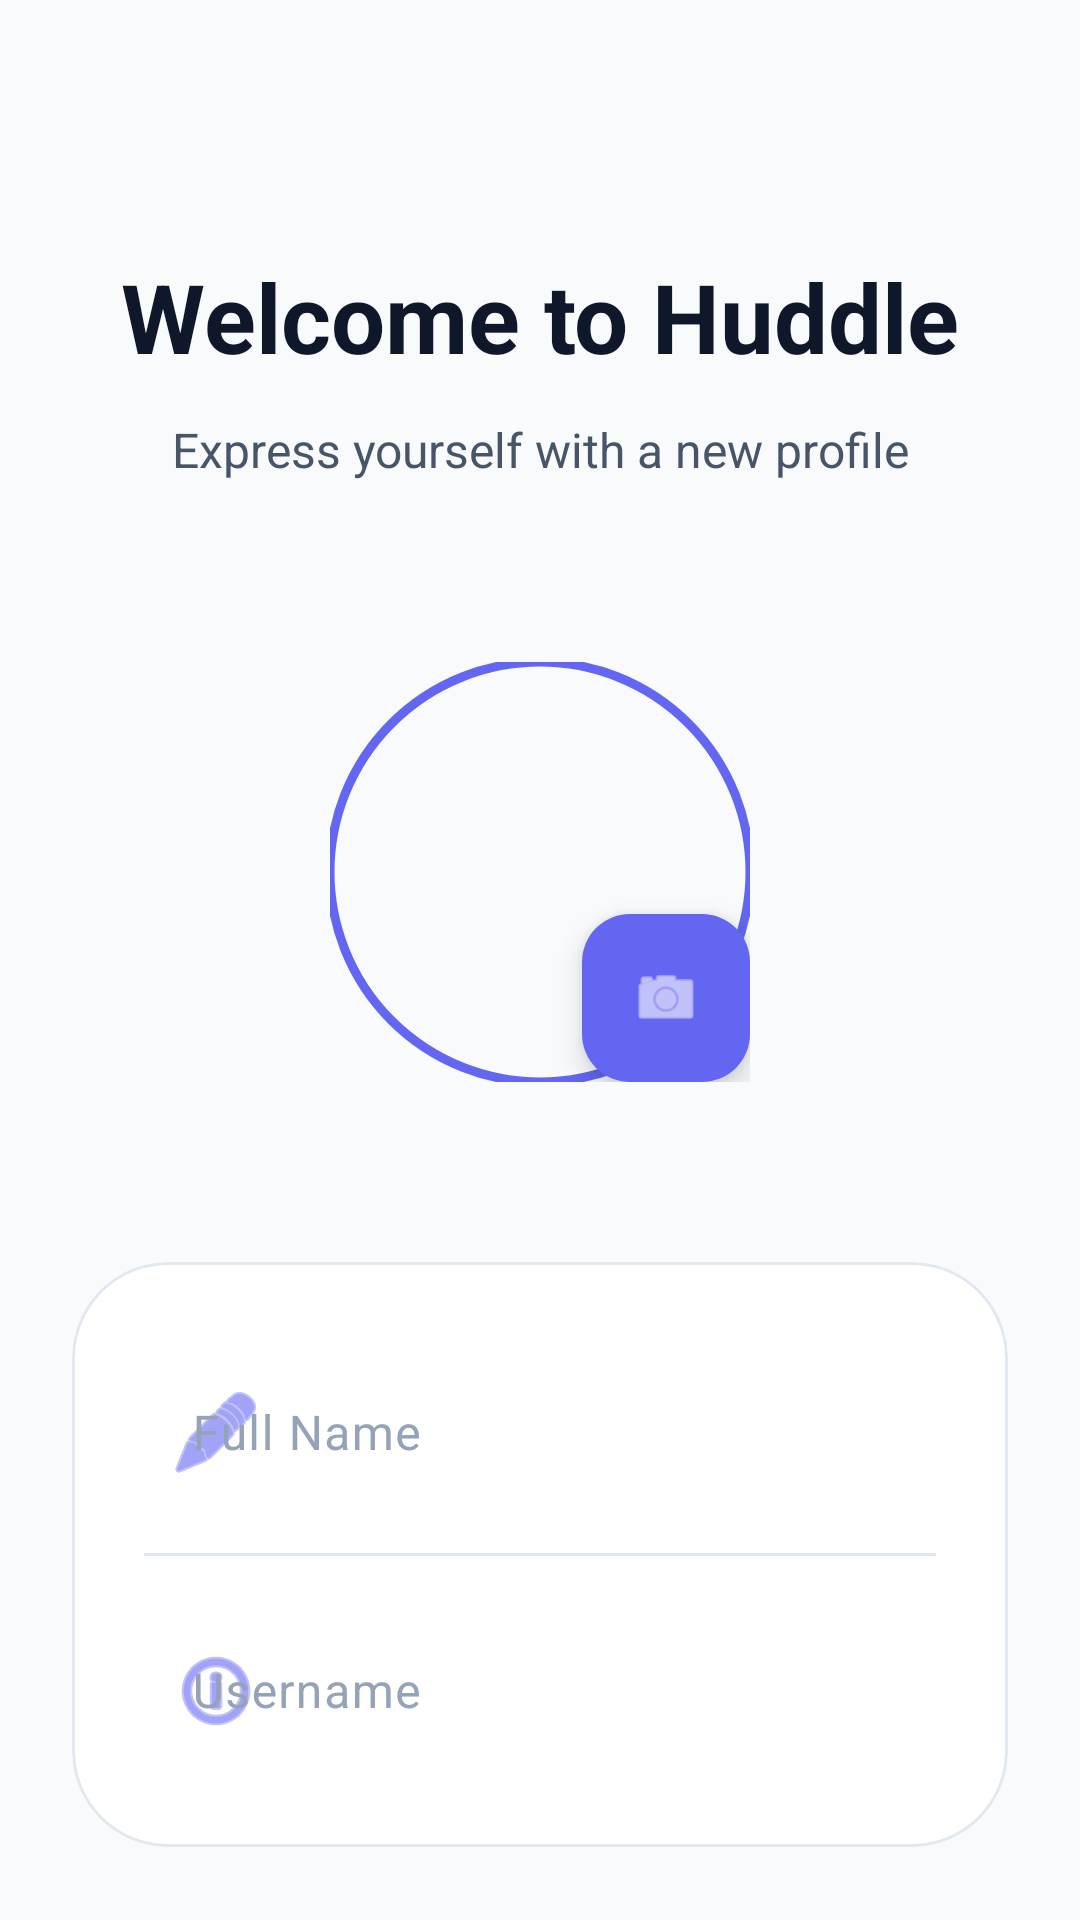

Icon bounding boxes for this 1080px×1920px phone screenshot, format (x1, y1, x2, y2):
camera: (582, 914, 750, 1082)
